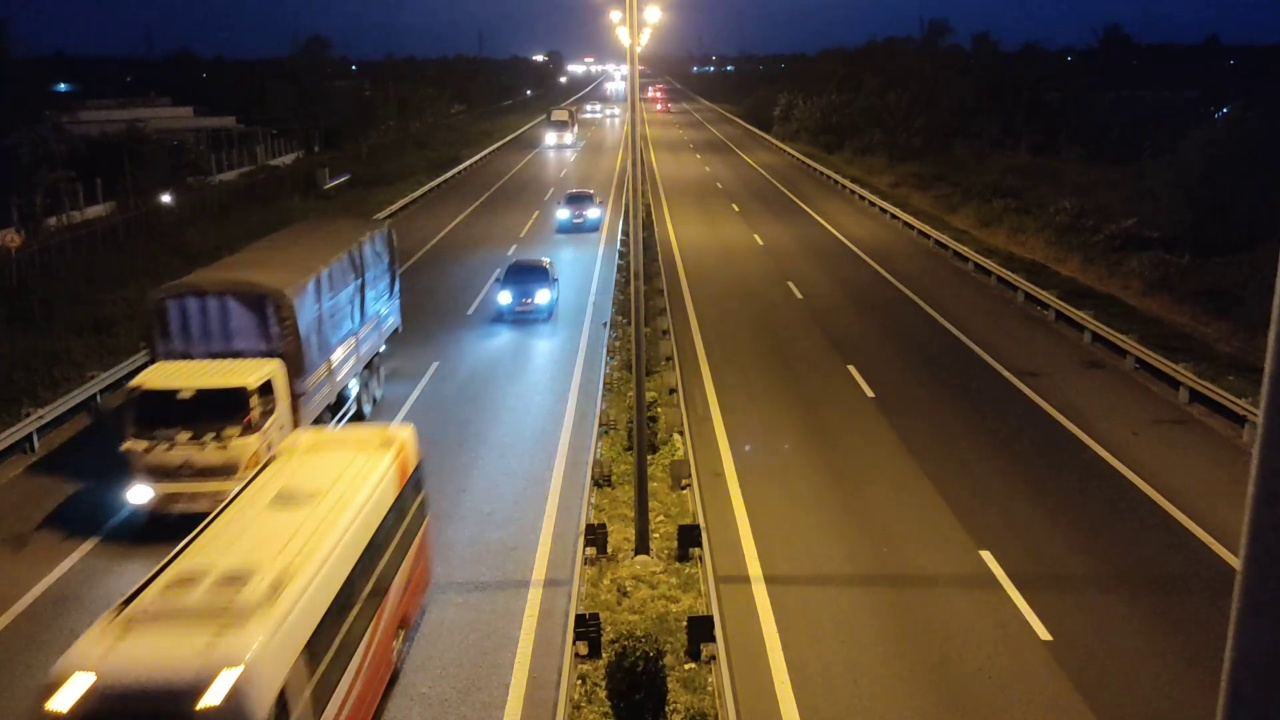bus: (36, 420, 438, 715)
car: (491, 258, 559, 324), (553, 189, 605, 233)
truck: (111, 215, 403, 518)
